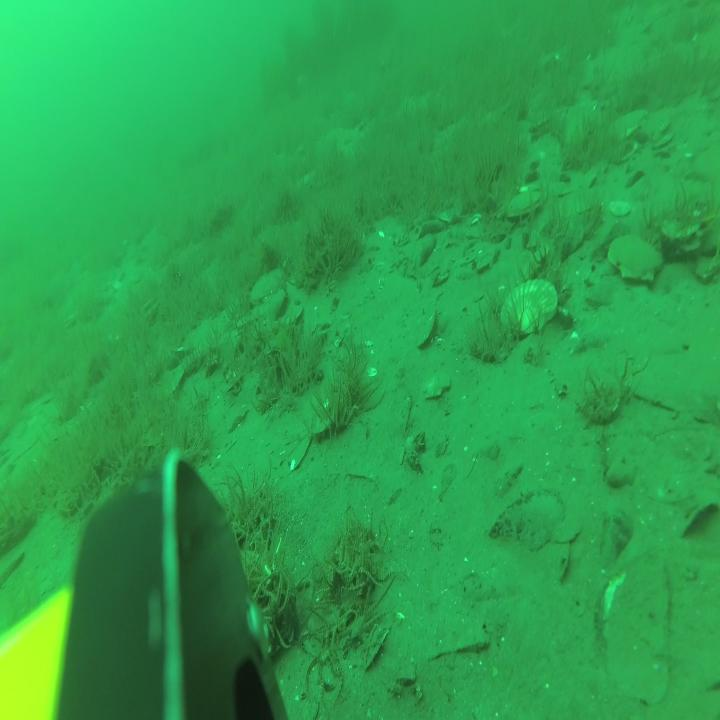scallop: (498, 274, 560, 342), (606, 230, 666, 287), (606, 104, 652, 145), (244, 266, 288, 307), (500, 186, 546, 222), (420, 368, 452, 401)
